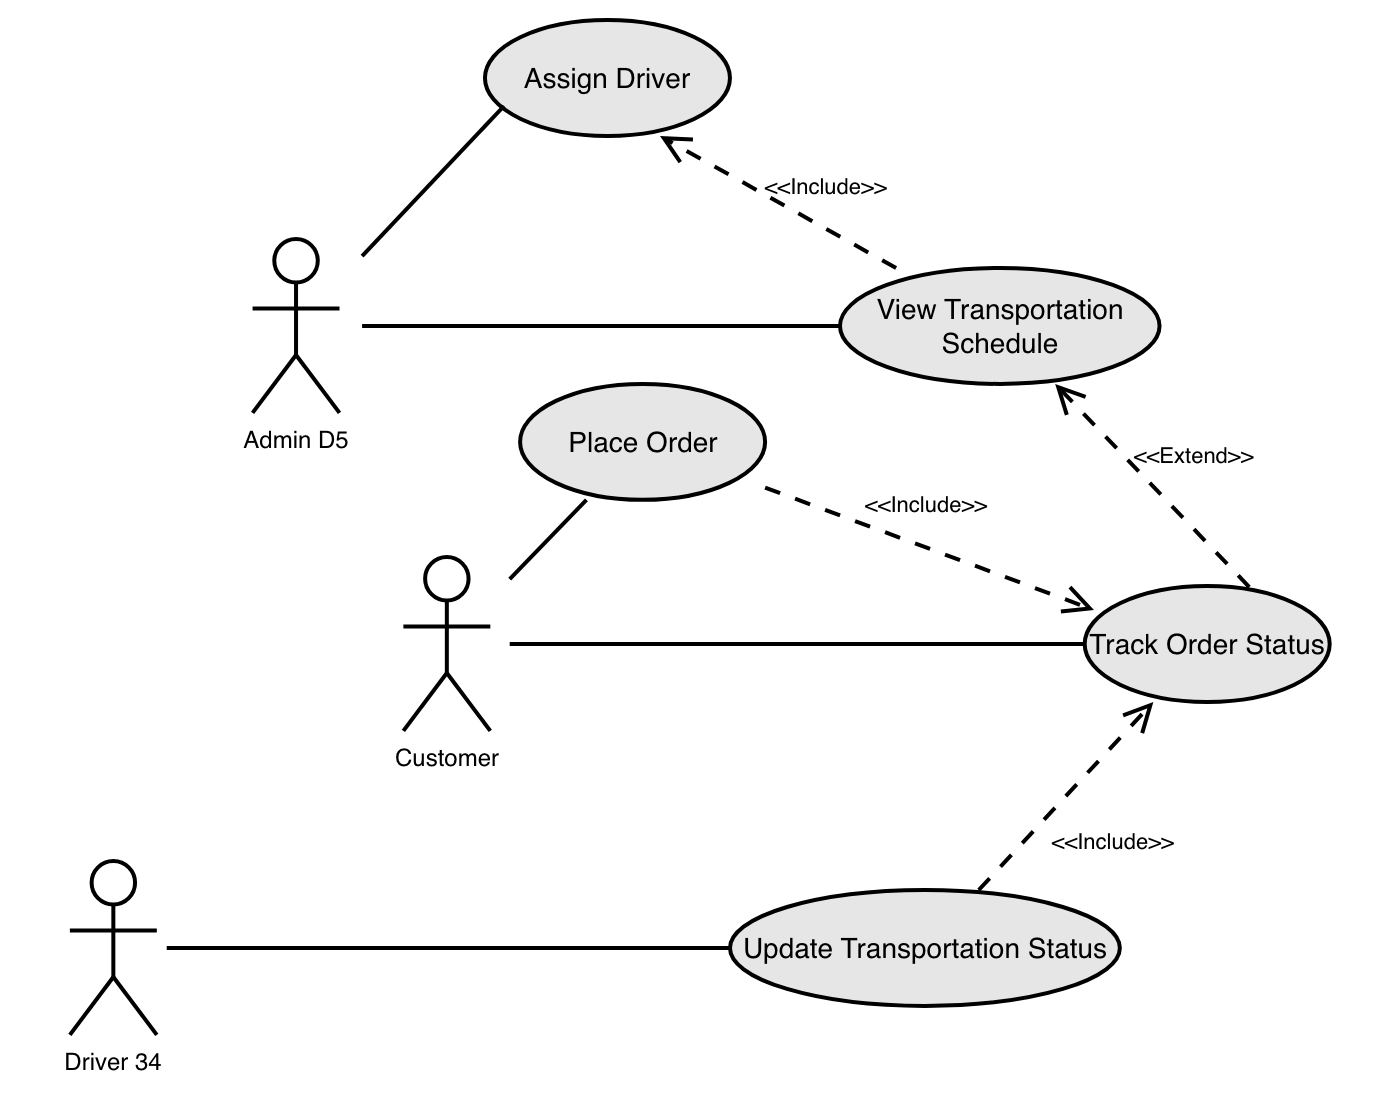actor: (389, 550, 502, 740), (53, 855, 161, 1039), (241, 232, 344, 419)
association: (728, 886, 1125, 1011), (763, 484, 1099, 618), (836, 263, 1163, 389), (1052, 383, 1249, 584), (655, 133, 905, 273), (978, 699, 1157, 890), (1080, 580, 1333, 705), (515, 380, 770, 502), (482, 16, 732, 140), (510, 613, 1082, 666), (166, 921, 725, 968), (362, 300, 841, 354), (362, 105, 505, 263)
text: (878, 294, 1128, 358), (738, 929, 1110, 966), (1090, 627, 1328, 662), (547, 419, 724, 463), (527, 63, 689, 95), (1047, 822, 1181, 856), (762, 171, 889, 203), (861, 489, 988, 522), (384, 745, 510, 774), (240, 423, 356, 455), (59, 1046, 175, 1076), (1121, 446, 1262, 469)
